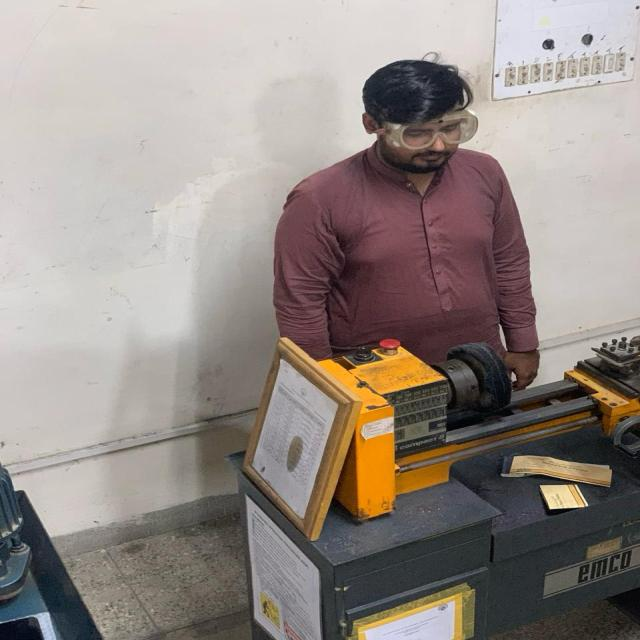googles: (388, 112, 492, 150)
